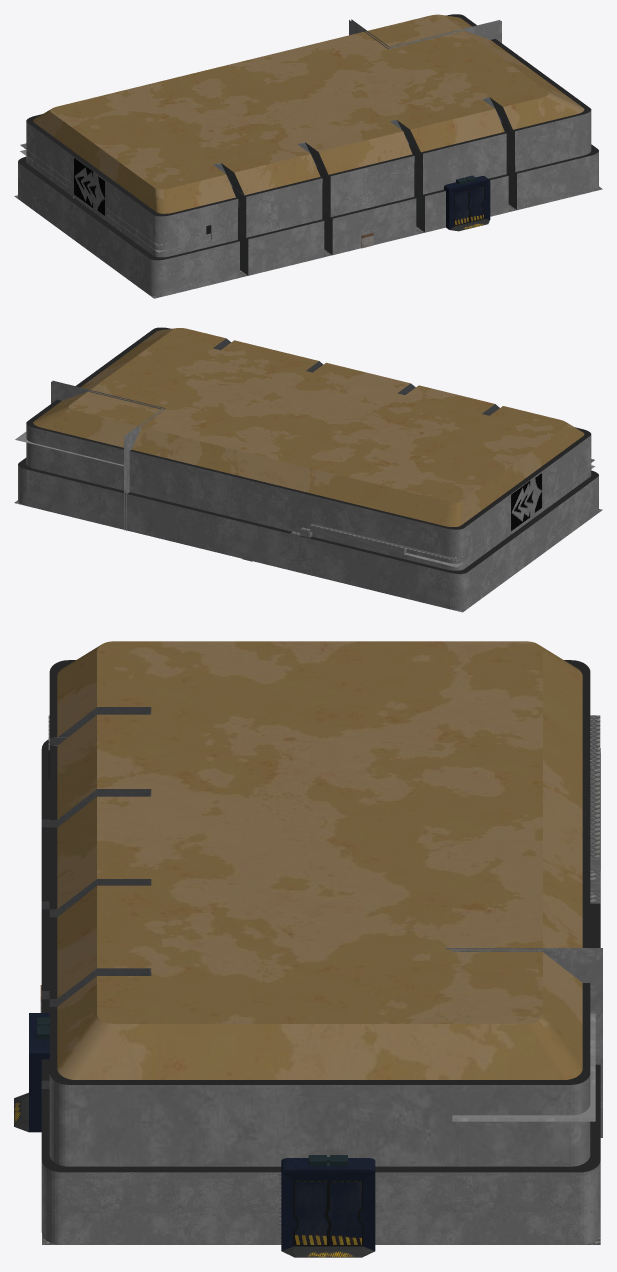
The model's file is SalaMenu2.obj.
3 renders of one model, top to bottom at view 1: azimuth 30°, elevation 25°; view 2: azimuth 150°, elevation 25°; view 3: azimuth 270°, elevation 25°, orthographic. The views are drawn at different scales.
Parts seen in each view (by area): view 1: SalaEntrenamiento_Entrenamiento_Cube.002, DoorFrame.001_Cube.012, Caseta_Cube.011; view 2: SalaEntrenamiento_Entrenamiento_Cube.002, Caseta_Cube.011, Escalon.004_Cube.034, Plataforma_Cube.017; view 3: SalaEntrenamiento_Entrenamiento_Cube.002, DoorFrame_Cube.004, Caseta_Cube.011, DoorFrame.001_Cube.012, Escalon.004_Cube.034.
Part boxes in pixels (x1,y1,x2,y2): SalaEntrenamiento_Entrenamiento_Cube.002: (14, 14, 602, 298); DoorFrame.001_Cube.012: (444, 175, 490, 231); Caseta_Cube.011: (349, 19, 501, 49); SalaEntrenamiento_Entrenamiento_Cube.002: (14, 327, 602, 612); Caseta_Cube.011: (15, 380, 165, 530); Escalon.004_Cube.034: (310, 523, 406, 554); Plataforma_Cube.017: (404, 459, 595, 567); SalaEntrenamiento_Entrenamiento_Cube.002: (41, 641, 600, 1244); DoorFrame_Cube.004: (281, 1155, 375, 1257); Caseta_Cube.011: (446, 948, 602, 1137); DoorFrame.001_Cube.012: (14, 1013, 49, 1132); Escalon.004_Cube.034: (590, 767, 599, 870).
Bounding box in the file's own units: 76.64 × 15.01 × 42.53.
Materials: 53 (48 with a texture image).
